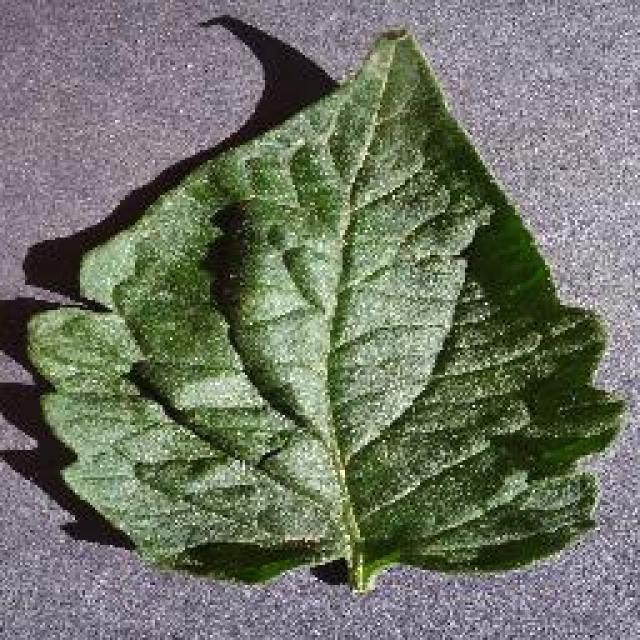Tomato_Healthy: (19, 22, 631, 572)
